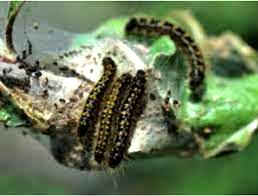Caterpillar: (154, 13, 209, 102), (122, 65, 152, 179), (96, 56, 116, 169)
